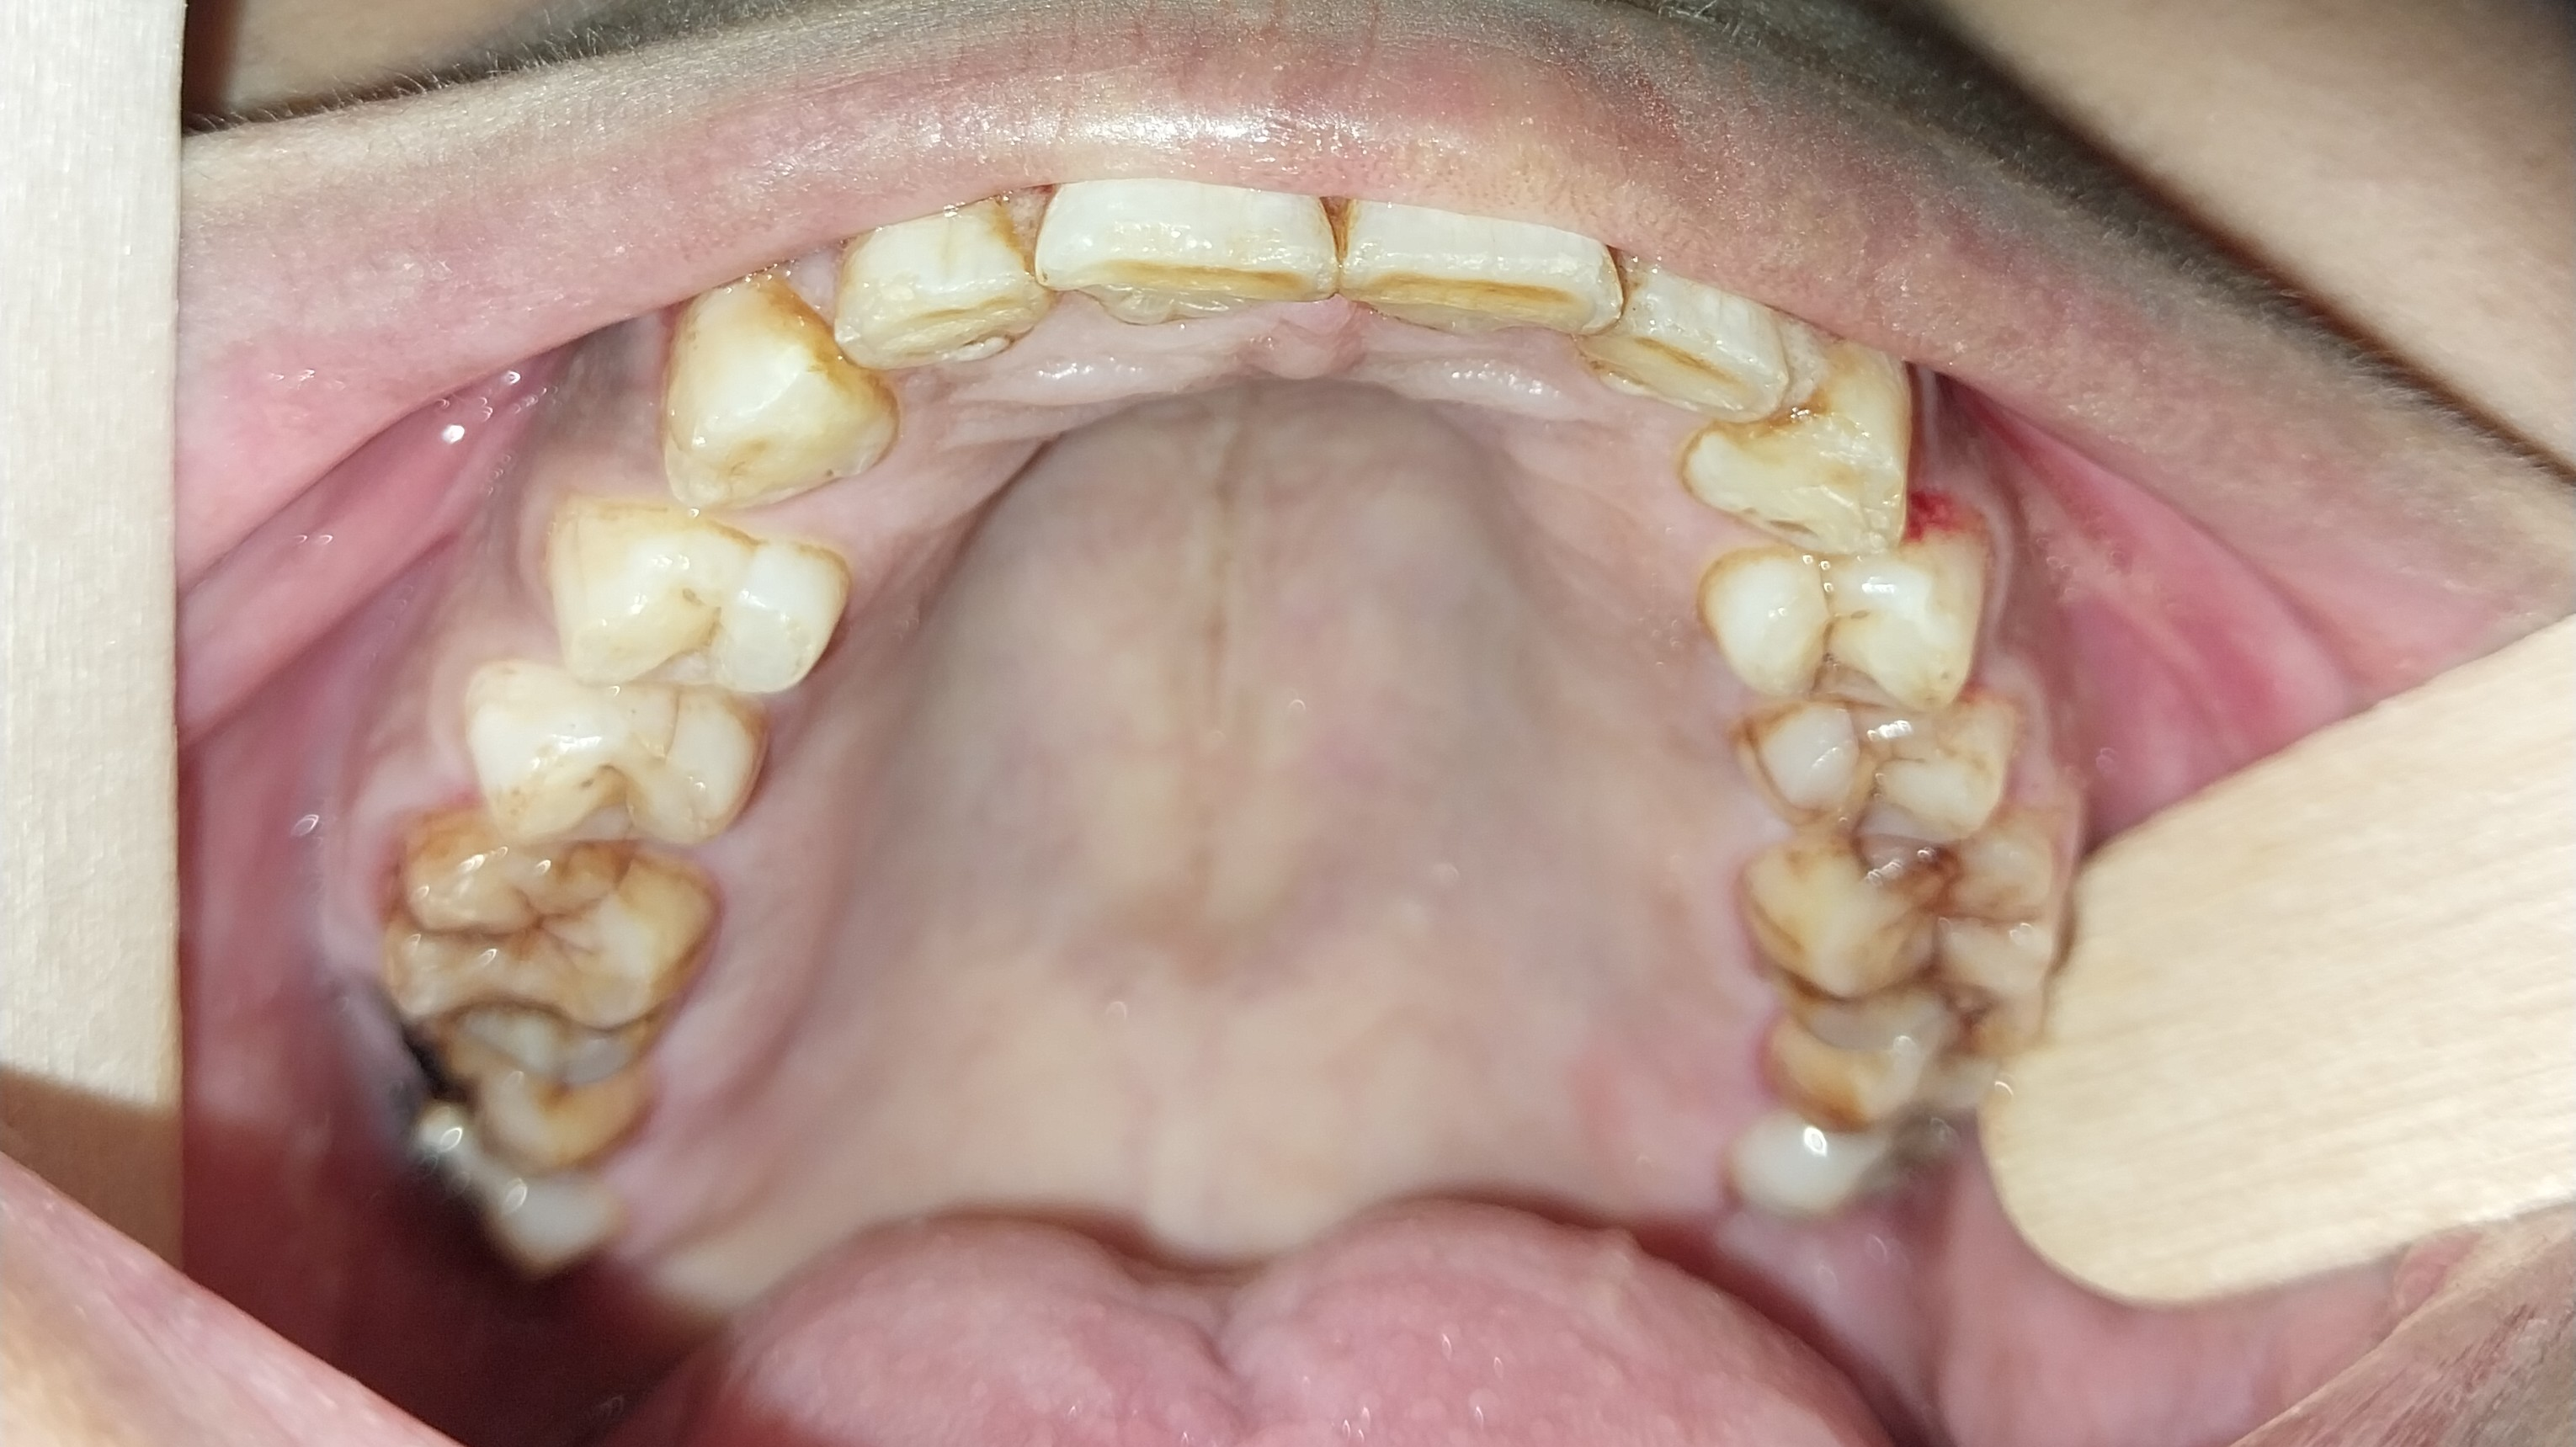D: (388, 816, 723, 1088), (1735, 816, 2080, 1019), (364, 994, 655, 1201), (1762, 982, 2041, 1130)
